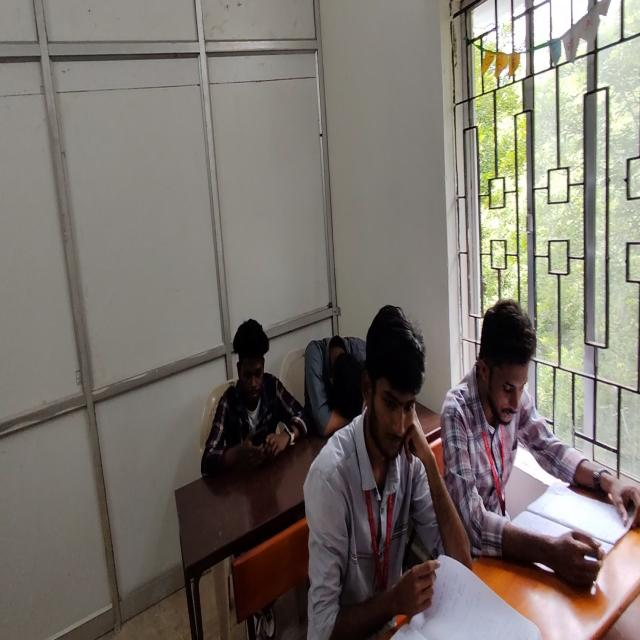reading: (444, 298, 640, 587), (302, 304, 460, 639)
sleeping: (306, 332, 368, 440)
using_mobile: (200, 318, 308, 477)
